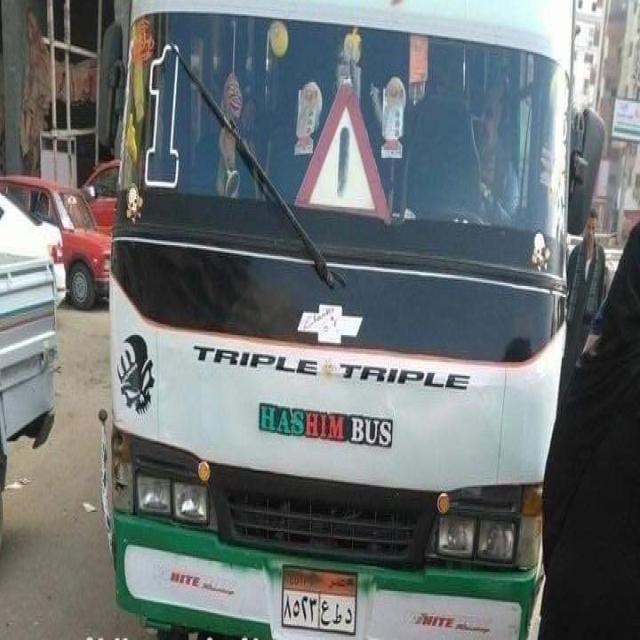License Plate: (280, 561, 360, 638)
